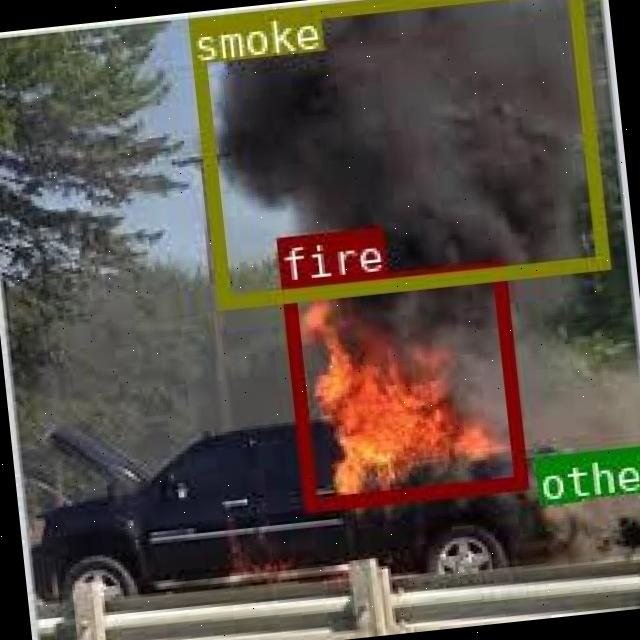fire: (280, 260, 525, 508)
smoke: (186, 0, 605, 305)
